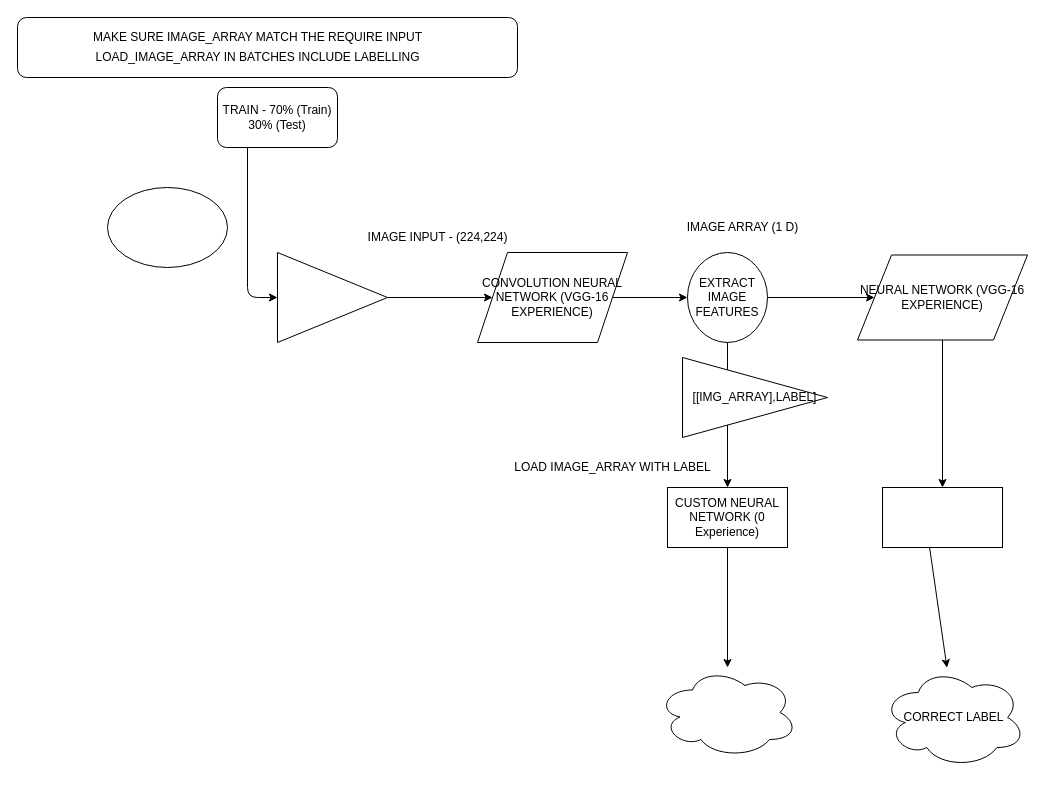
This 1045x785 diagram has some shape labels left out. The shapes that lost their labels are listed below. From the top down, each one's box as (x1, y1, x2, y2) in pixels, then its label:
(106, 186, 228, 268): LOAD DATA SET
(276, 252, 388, 342): INPUT - NAME & LABEL
(882, 486, 1002, 548): TEST LOADING DATA
(656, 666, 798, 758): CSV - IMAGE NAME, LABEL
